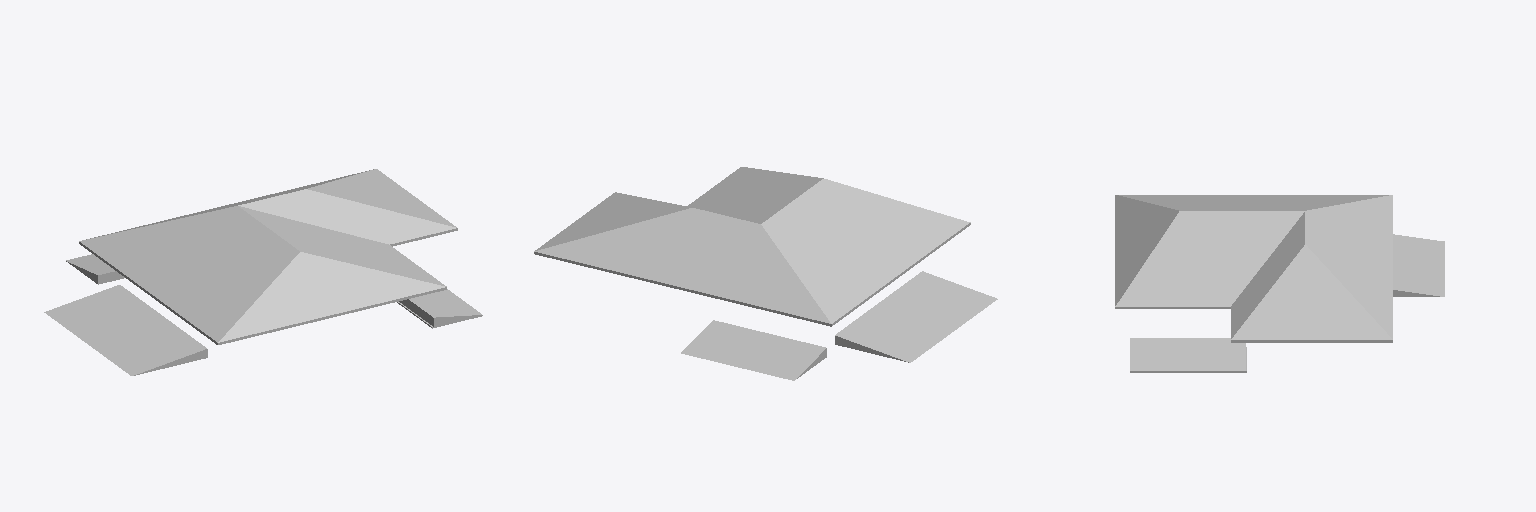
Rendered from house_roof.obj.
3 renders of one model, left to right at view 1: azimuth 30°, elevation 25°; view 2: azimuth 150°, elevation 25°; view 3: azimuth 270°, elevation 25°, orthographic.
Parts seen in each view (by area): view 1: Cube.098_Mesh, Cube.113_Mesh, Cube.096_Mesh, Cube.114_Mesh; view 2: Cube.098_Mesh, Cube.113_Mesh, Cube.114_Mesh; view 3: Cube.098_Mesh, Cube.096_Mesh, Cube.114_Mesh.
Part boxes in pixels (x1,y1,x2,y2): Cube.098_Mesh: (79,169,457,344); Cube.113_Mesh: (44,285,207,375); Cube.096_Mesh: (399,289,481,326); Cube.114_Mesh: (66,254,124,284); Cube.098_Mesh: (534,167,970,326); Cube.113_Mesh: (835,271,997,362); Cube.114_Mesh: (681,320,826,380); Cube.098_Mesh: (1115,195,1392,342); Cube.096_Mesh: (1130,338,1245,370); Cube.114_Mesh: (1393,234,1444,296).
Bounding box in the file's own units: 56 × 12.8 × 45.